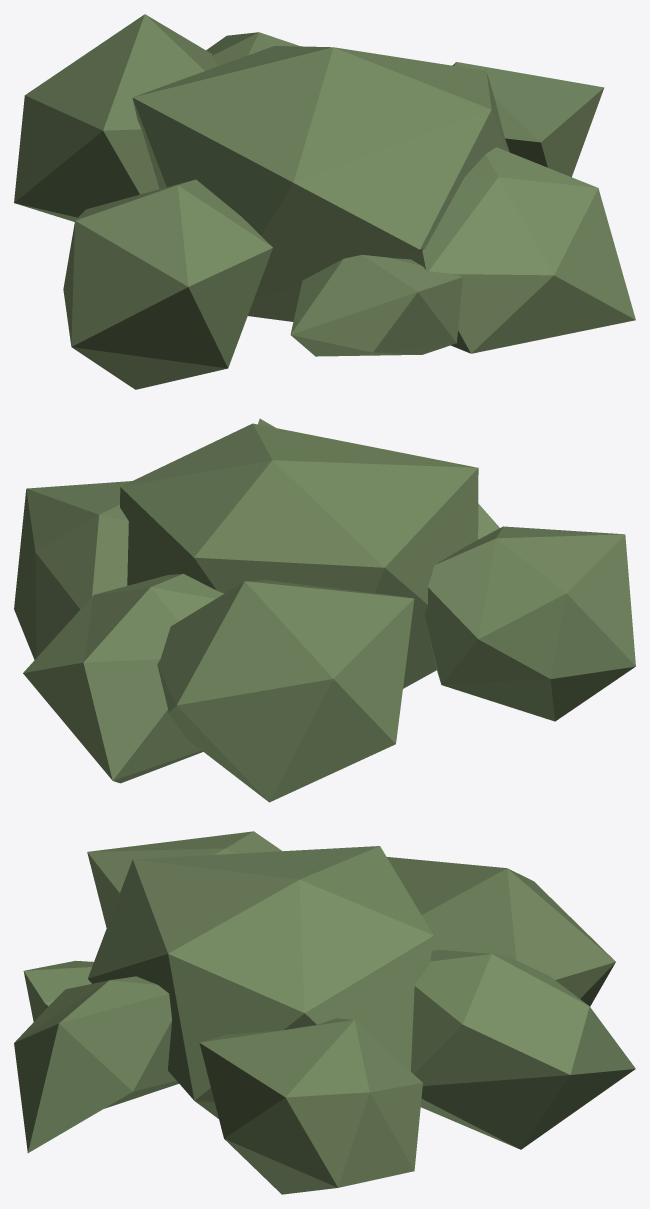
The model's file is bush_7.glb.
The picture shows the model from 3 angles, top to bottom: view 1: azimuth 30°, elevation 25°; view 2: azimuth 150°, elevation 25°; view 3: azimuth 270°, elevation 25°; orthographic projection. The views are drawn at different scales.
Parts seen in each view (by area): view 1: bush_7.001; view 2: bush_7.001; view 3: bush_7.001.
Boxes of the visible parts, bbox=[...] form: bush_7.001: bbox=[14, 14, 635, 389]; bush_7.001: bbox=[14, 418, 635, 802]; bush_7.001: bbox=[14, 831, 635, 1194].
Size of the model in its own units: 4.94 by 2.19 by 4.76.
